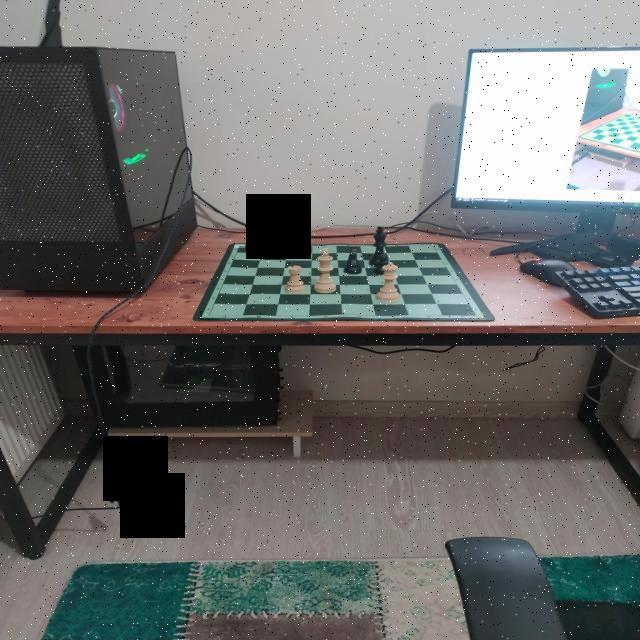chess-table-corners: (200, 311, 219, 320), (467, 312, 486, 320), (234, 244, 245, 248)
